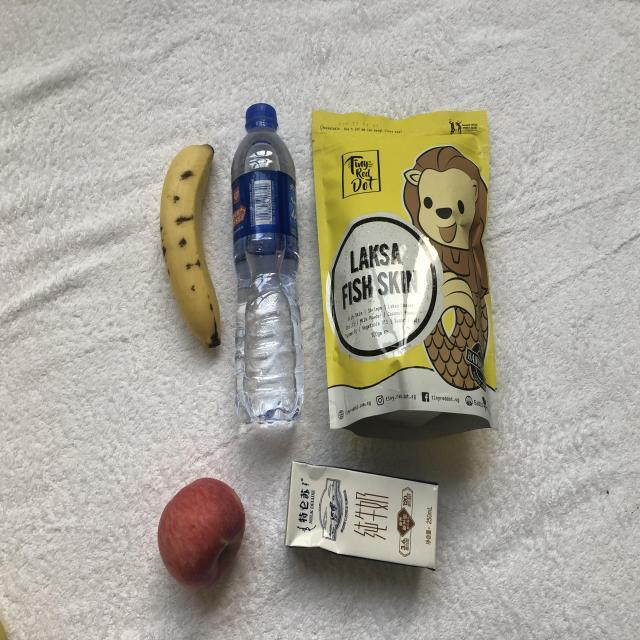Apple: (147, 464, 250, 612)
Banana: (141, 128, 233, 359)
